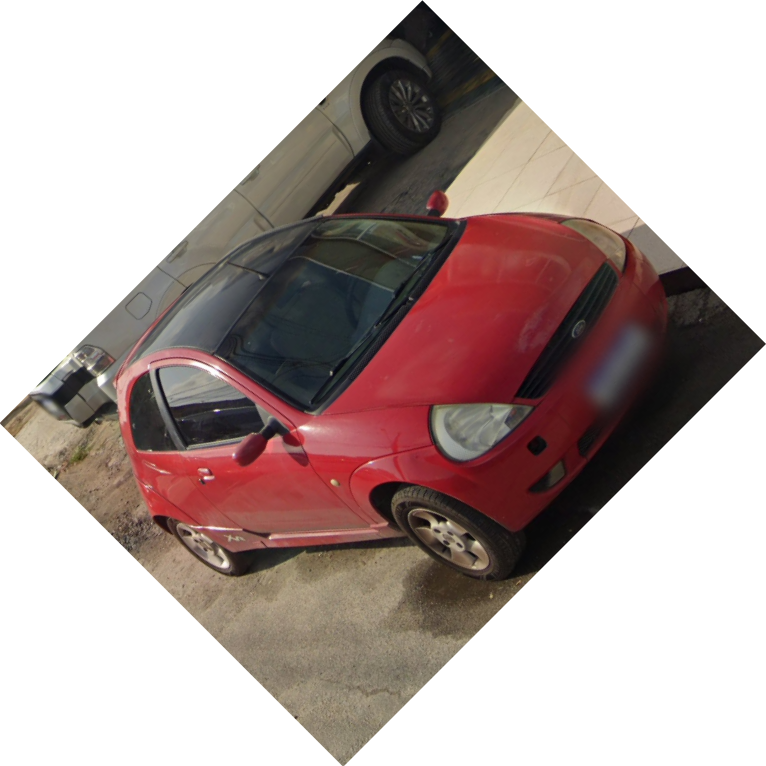car: (115, 212, 671, 579)
